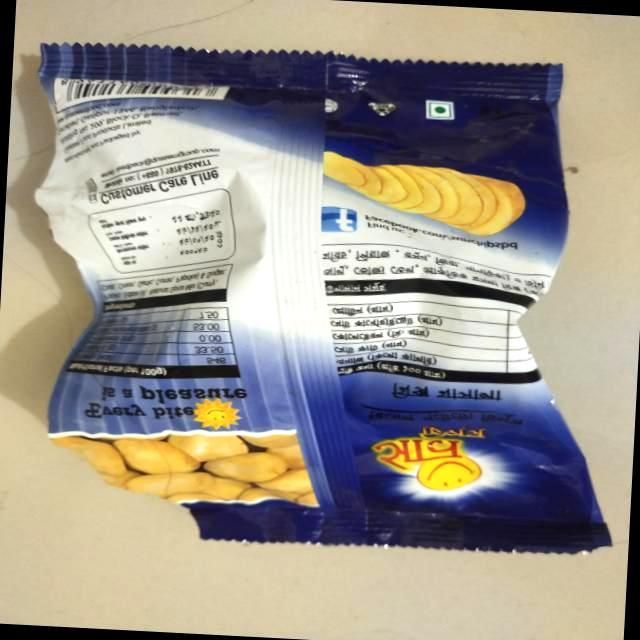packet: (4, 31, 640, 577)
